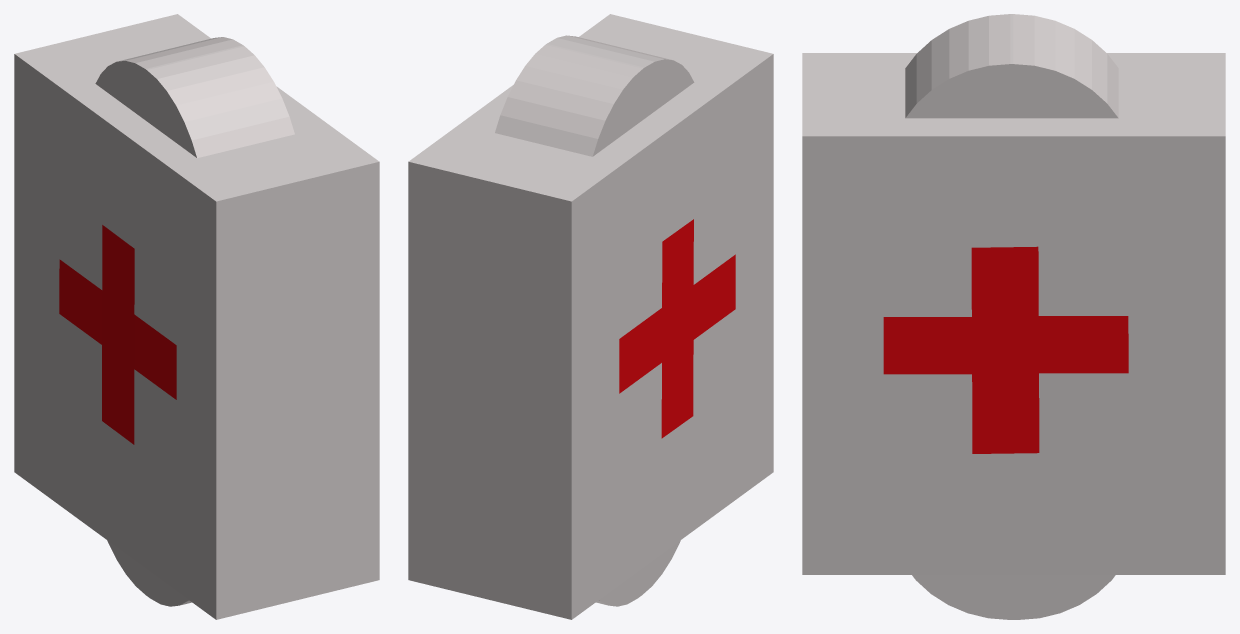
File: bandage.fbx
3 renders of one model, left to right at view 1: azimuth 30°, elevation 25°; view 2: azimuth 150°, elevation 25°; view 3: azimuth 270°, elevation 25°, orthographic. The views are drawn at different scales.
Parts seen in each view (by area): view 1: Cube, Plane.001; view 2: Cube, Plane.001; view 3: Cube, Plane.
Boxes of the visible parts, x1,y1,x2,y2 form: Cube: (14, 14, 379, 619); Plane.001: (59, 225, 176, 444); Cube: (408, 14, 773, 619); Plane.001: (619, 219, 735, 438); Cube: (802, 14, 1225, 619); Plane: (883, 246, 1128, 453).
Size of the model in its own units: 53.64 by 164 by 113.
